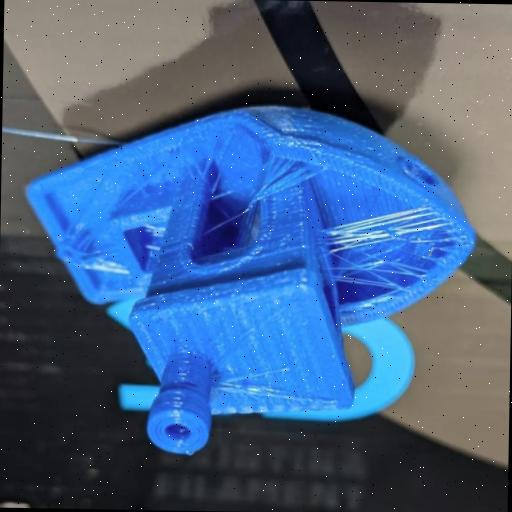stringing: (331, 207, 436, 247), (352, 248, 414, 290), (260, 158, 308, 194)
